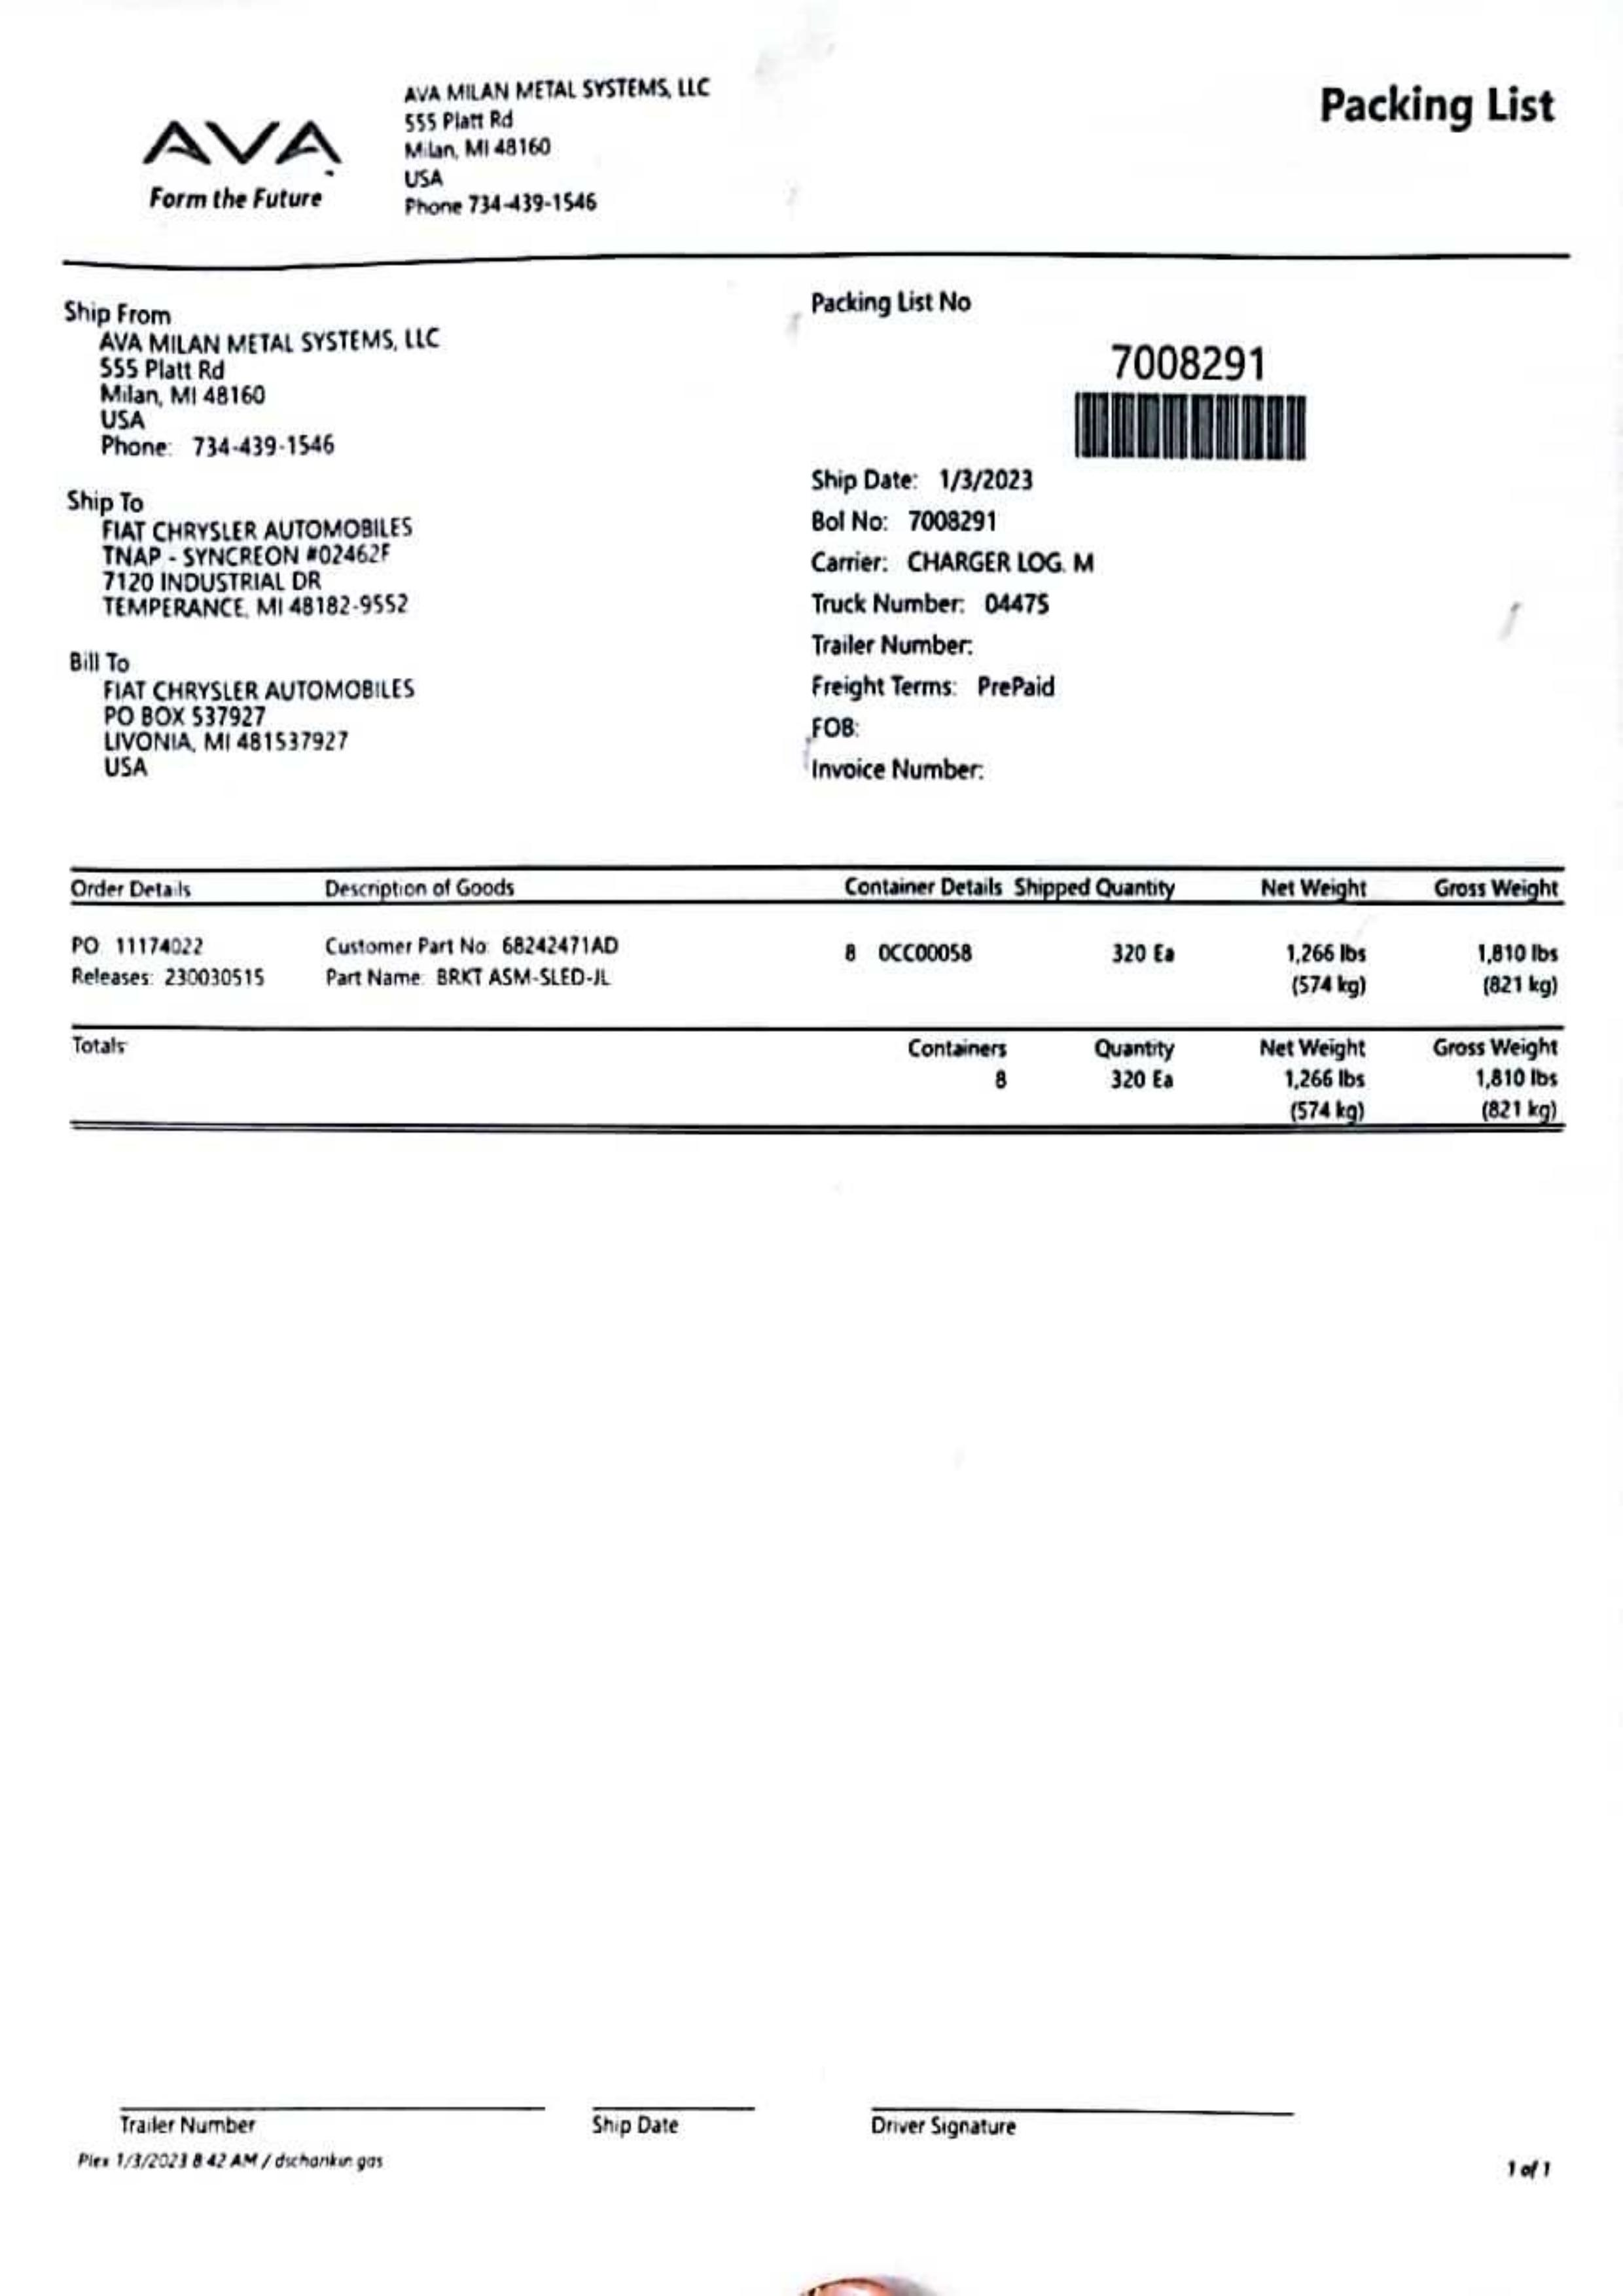B_Paragraph: (794, 453, 1096, 792), (95, 326, 458, 470), (395, 74, 731, 219), (100, 669, 425, 790), (98, 516, 437, 628), (79, 2150, 393, 2185), (1110, 334, 1288, 386), (859, 2112, 1031, 2150), (112, 2112, 267, 2142), (578, 2112, 685, 2145), (1507, 2154, 1565, 2192)
B_SubTitle: (806, 279, 977, 328), (56, 481, 158, 520), (60, 295, 179, 326), (63, 644, 153, 678)
B_Table: (60, 855, 1576, 1144)
B_Title: (1309, 56, 1569, 156), (126, 105, 350, 216)
